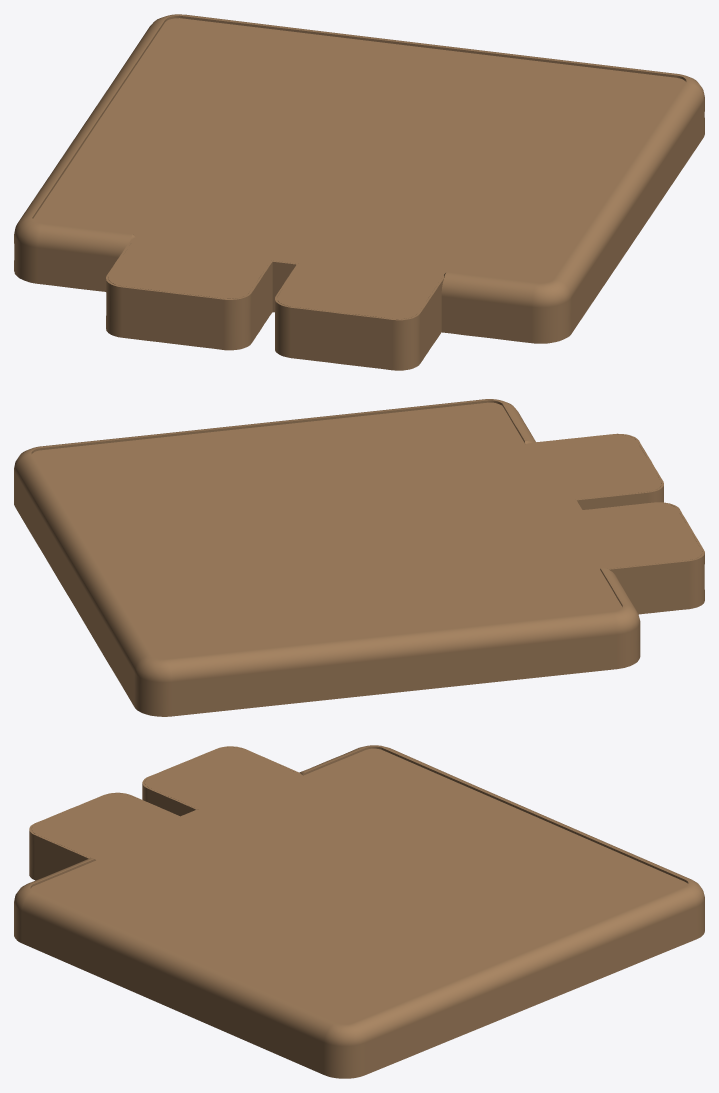
Rendered from ergoflex-small-shelf.glb.
3 views of the same model, one above another, from view 1: azimuth 30°, elevation 25°; view 2: azimuth 150°, elevation 25°; view 3: azimuth 270°, elevation 25° (orthographic). The views are drawn at different scales.
Visible parts, largest first — view 1: Supplied small-shelf part 0; view 2: Supplied small-shelf part 0; view 3: Supplied small-shelf part 0.
Boxes of the visible parts, x1,y1,x2,y2 form: Supplied small-shelf part 0: (14,14,704,370); Supplied small-shelf part 0: (14,399,704,716); Supplied small-shelf part 0: (14,745,704,1078).
Bounding box in the file's own units: 0.45 × 0.0341 × 0.4504.
